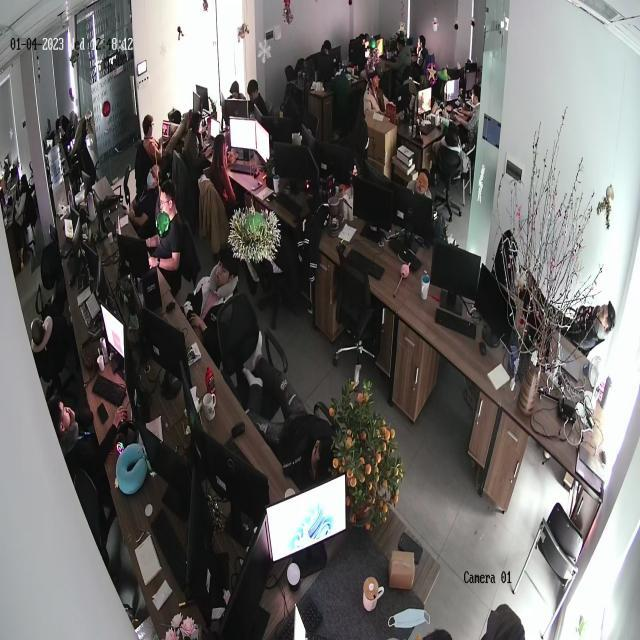person: (46, 392, 129, 480), (187, 242, 241, 329), (146, 179, 183, 295), (139, 112, 197, 172), (207, 131, 240, 209), (127, 167, 160, 240), (363, 65, 398, 125), (13, 176, 33, 264), (455, 83, 480, 150), (184, 111, 206, 178), (386, 35, 413, 77), (245, 80, 270, 117), (411, 34, 429, 82)
